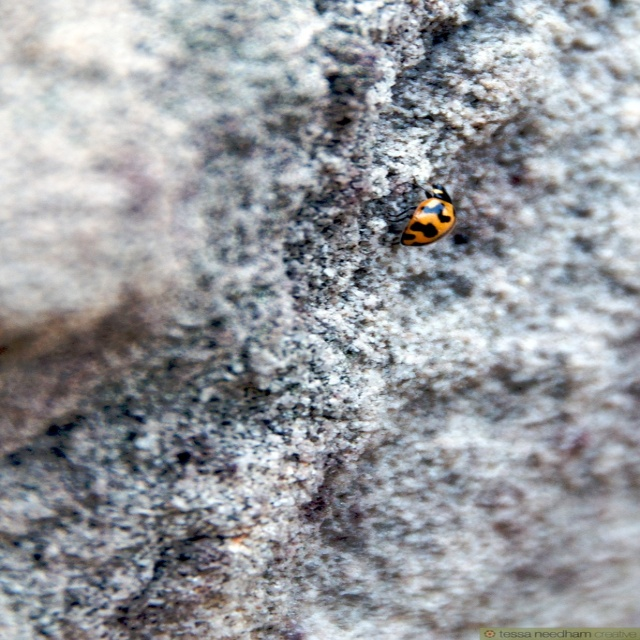Ladybug: (391, 180, 459, 248)
